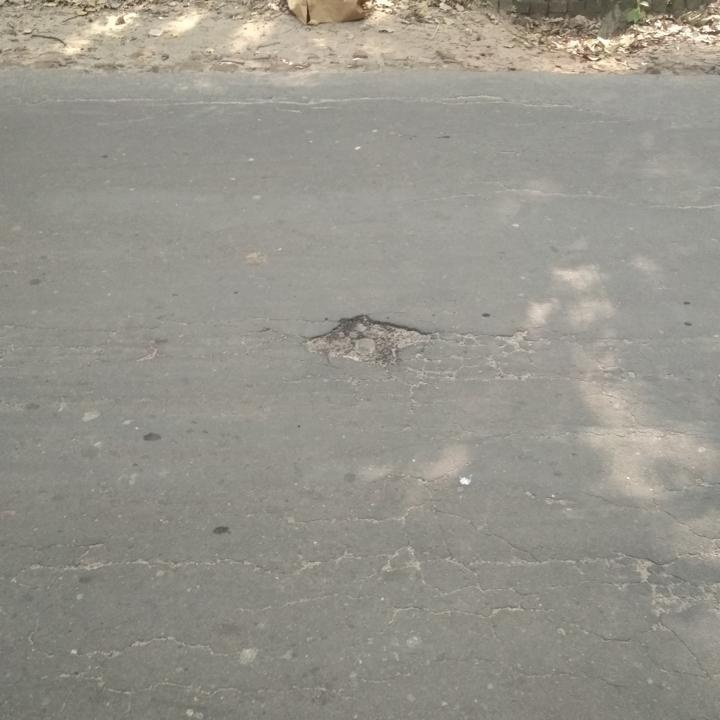pothole: (300, 310, 438, 367)
